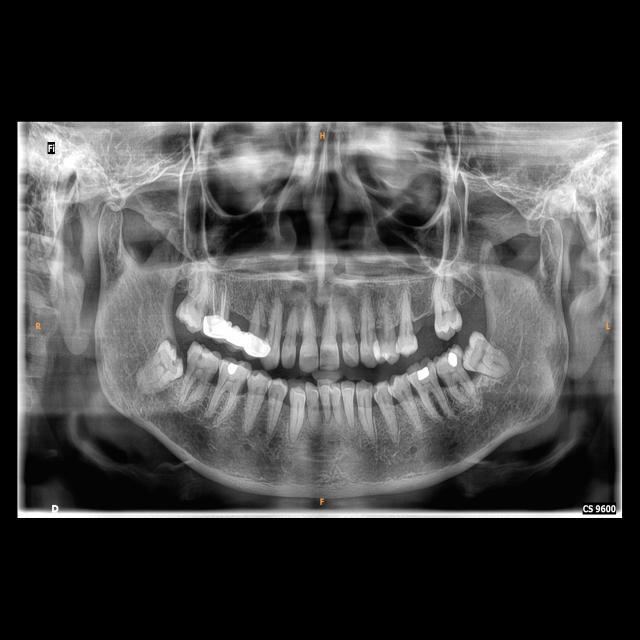dolgu: (436, 348, 469, 372), (406, 362, 436, 386), (220, 358, 243, 379)
kanal-tedavisi: (207, 273, 231, 321)
kaplama: (244, 330, 269, 359), (203, 315, 233, 339)
kopru: (221, 317, 251, 351)
